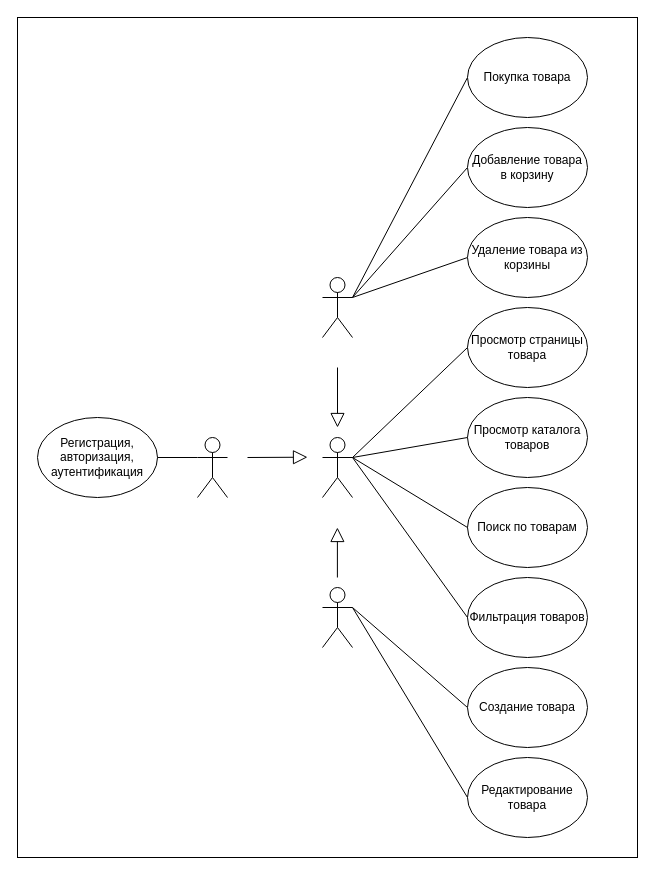
Image size: 655x875. Some labels were removed from this diagram. Each missing label, with the box of its shape:
Администратор: (322, 586, 352, 648)
Гость: (196, 436, 228, 498)
Клиент: (322, 276, 352, 338)
Пользователь: (322, 436, 352, 498)
